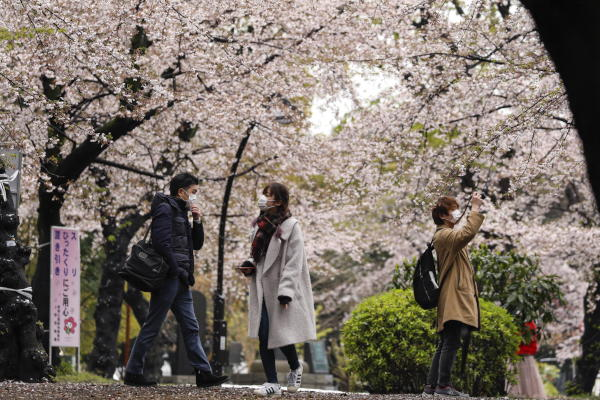Person: (122, 173, 229, 386), (239, 183, 317, 396), (428, 192, 484, 397)
